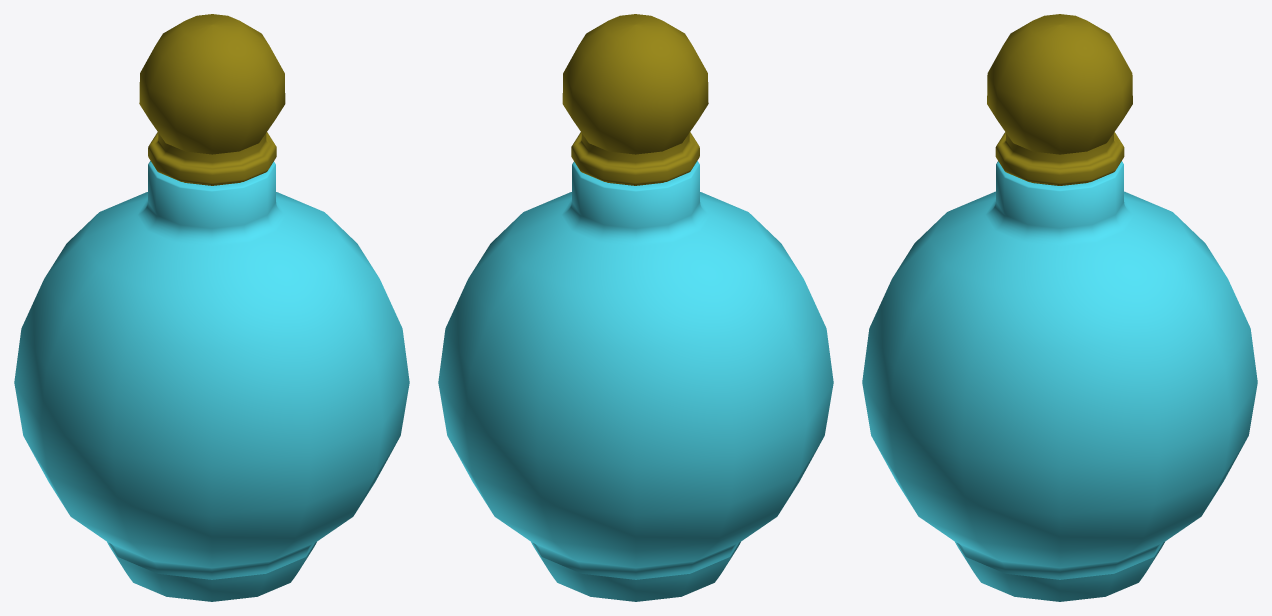
The model's file is potion09.FBX.
3 views of the same model, side by side, from view 1: azimuth 30°, elevation 25°; view 2: azimuth 150°, elevation 25°; view 3: azimuth 270°, elevation 25° (orthographic).
Visible parts, largest first — view 1: potion_09glass; view 2: potion_09glass; view 3: potion_09glass.
Boxes of the visible parts, x1,y1,x2,y2 form: potion_09glass: (14, 14, 409, 601); potion_09glass: (438, 14, 833, 601); potion_09glass: (862, 14, 1257, 601).
Size of the model in its own units: 29.63 by 44.56 by 29.63.
